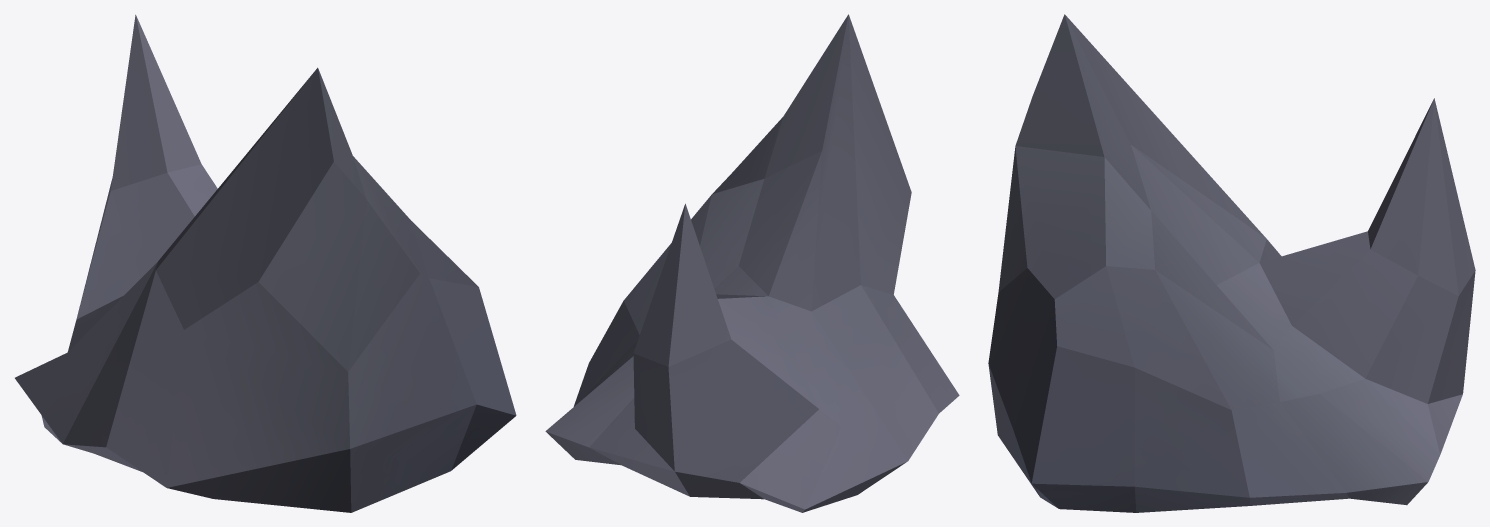
File: F_Stone_Harm_3.fbx
3 views of the same model, side by side, from view 1: azimuth 30°, elevation 25°; view 2: azimuth 150°, elevation 25°; view 3: azimuth 270°, elevation 25° (orthographic). The views are drawn at different scales.
Visible parts, largest first — view 1: F_Stone_Harm_3; view 2: F_Stone_Harm_3; view 3: F_Stone_Harm_3.
Boxes of the visible parts, bbox=[...] form: F_Stone_Harm_3: bbox=[15, 14, 516, 512]; F_Stone_Harm_3: bbox=[545, 14, 959, 512]; F_Stone_Harm_3: bbox=[988, 14, 1475, 512].
Bounding box in the file's own units: 1.12 × 1.07 × 0.9726.
1 material, 1 textured.
